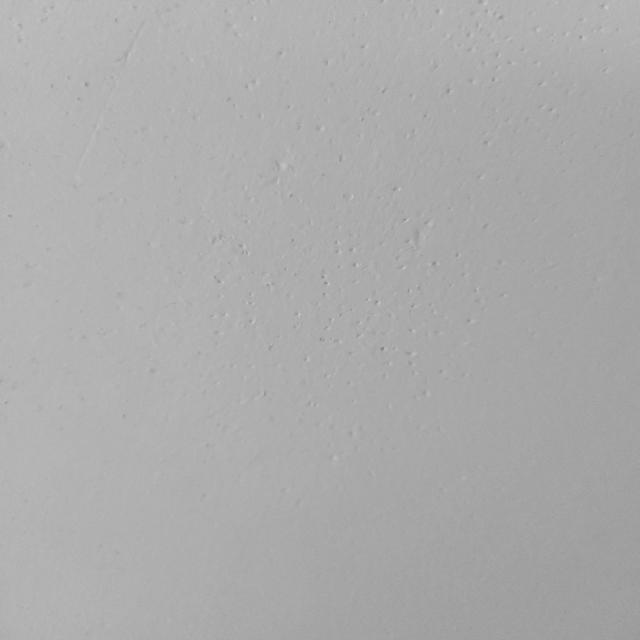rough and patchy surface: (14, 0, 639, 466)
